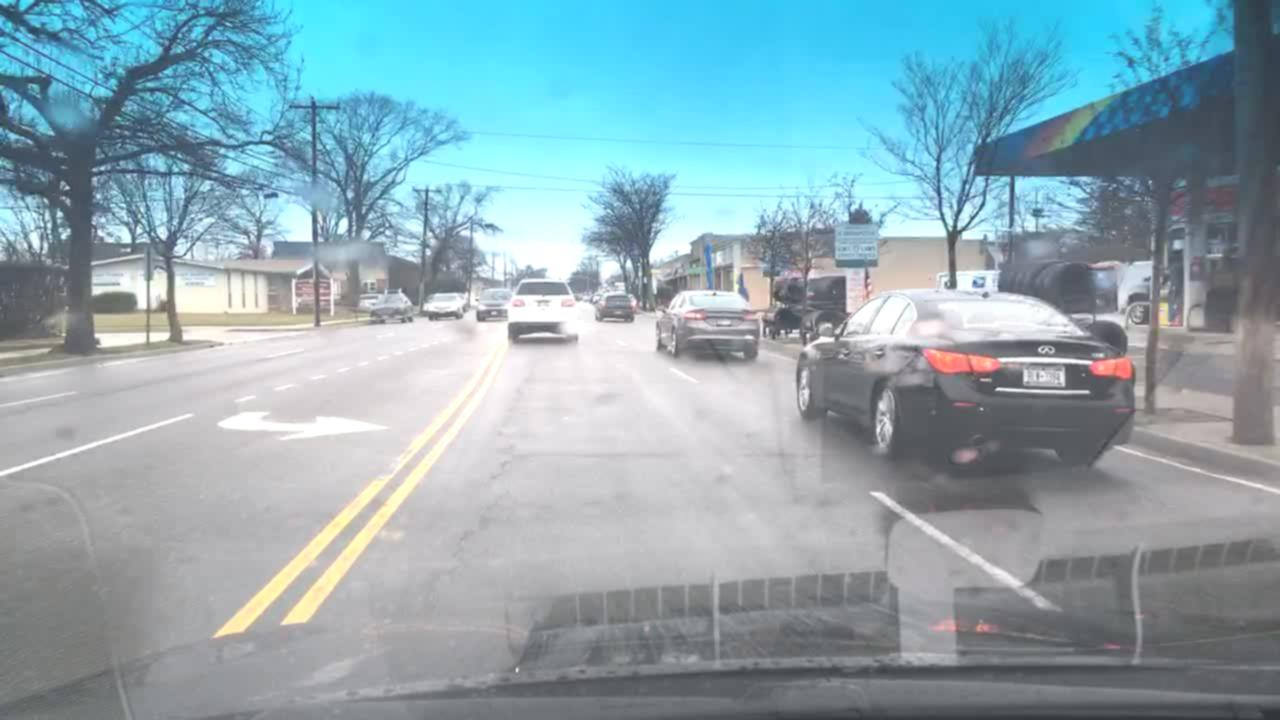Infiniti: (1036, 342, 1058, 355)
